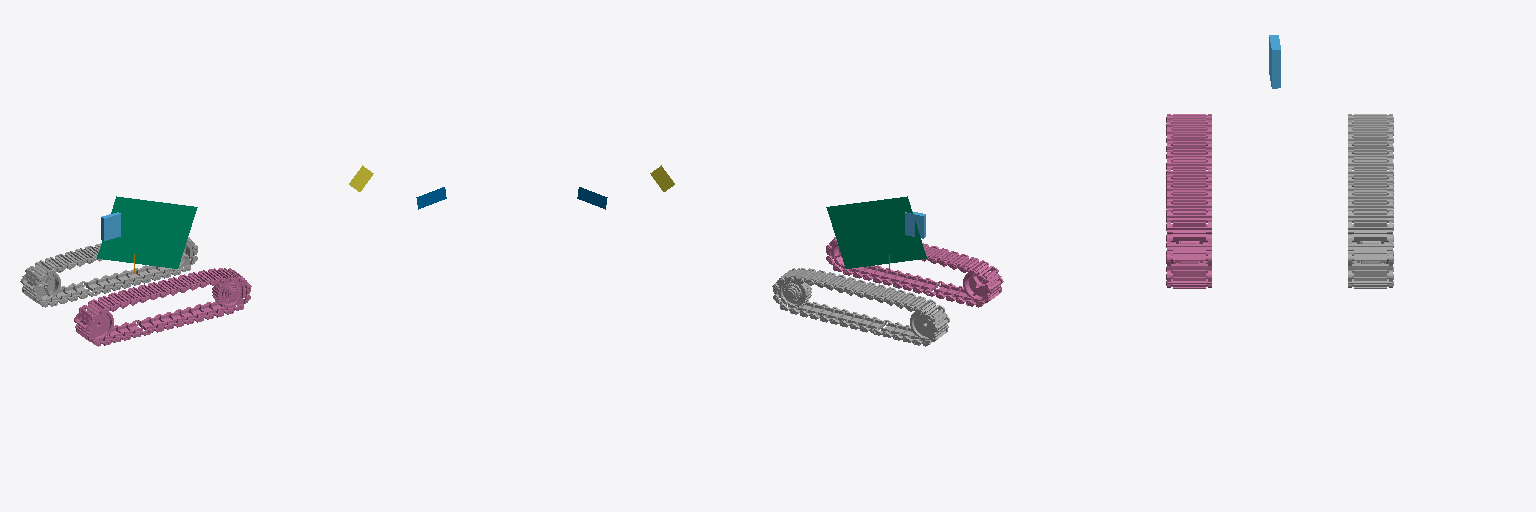
The robot description file, URDF, robot "excavator":
<?xml version="1.0" encoding="UTF-8"?>

<robot name="excavator">
    <link name="base_link">
        <inertial>
            <origin rpy="0 0 0" xyz="0.0282638347815265 -8.1769857299463E-05 -0.657571378556595" />
            <mass value="1992.01573661862" />
            <inertia ixx="4121.92197803139" ixy="-0.36404615948107" ixz="-3.32850437268188" iyy="2819.50995703083" iyz="-0.0231203772726051" izz="6745.18265552285" />
        </inertial>
        <visual>
            <origin rpy="0 0 0" xyz="0 0 0" />
            <geometry>
                <box size="0.0282638347815265 -8.1769857299463E-05 -0.657571378556595"/>
            </geometry>
            <material name="">
            </material>
        </visual>
        <collision>
            <origin rpy="0 0 0" xyz="0 0 0" />
            <geometry>
                <box size="0.0282638347815265 -8.1769857299463E-05 -0.657571378556595"/>
            </geometry>
        </collision>
    </link>
    <link name="link2">
        <inertial>
            <origin rpy="0 0 0" xyz="-0.617651784118772 0.169249387796911 -0.748550996183249" />
            <mass value="14373.8102967852" />
            <inertia ixx="11975.6344139112" ixy="390.612020085221" ixz="1550.02515600428" iyy="27034.8276746952" iyz="-82.0261146504475" izz="36396.6403161857" />
        </inertial>
        <visual>
            <origin rpy="0 0 0" xyz="0 0 0" />
            <geometry>
                <box size="-0.617651784118772 0.169249387796911 -0.748550996183249"/>
            </geometry>
            <material name="">
            </material>
        </visual>
        <collision>
            <origin rpy="0 0 0" xyz="0 0 0" />
            <geometry>
                <box size="-0.617651784118772 0.169249387796911 -0.748550996183249"/>
            </geometry>
        </collision>
    </link>
    <joint name="link2_to_base" type="revolute">
        <origin rpy="0 0 0.075368" xyz="-0.8585 -0.0825 1.466" />
        <parent link="base_link" />
        <child link="link2" />
        <axis xyz="0 0 1" />
        <limit effort="300" lower="-3.1" upper="3.1" velocity="0.1" />
    </joint>
    <link name="link3">
        <inertial>
            <origin rpy="0 0 0" xyz="3.00116090495667 -3.72380088320412E-06 2.0241982703006" />
            <mass value="2653.35957715292" />
            <inertia ixx="1651.19721093052" ixy="0.000317524053015926" ixz="-3087.13996472933" iyy="10753.6589473432" iyz="-0.000575744023876745" izz="9291.99435208684" />
        </inertial>
        <visual>
            <origin rpy="0 0 0" xyz="0 0 0" />
            <geometry>
                <box size="3.00116090495667 -3.72380088320412E-06 2.0241982703006"/>
            </geometry>
            <material name="">
            </material>
        </visual>
        <collision>
            <origin rpy="0 0 0" xyz="0 0 0" />
            <geometry>
                <box size="3.00116090495667 -3.72380088320412E-06 2.0241982703006"/>
            </geometry>
        </collision>
    </link>
    <joint name="link3_to_link2" type="revolute">
        <origin rpy="0 0.34319 -0.075368" xyz="1.306 -0.015884 -0.544" />
        <parent link="link2" />
        <child link="link3" />
        <axis xyz="0 1 0" />
        <limit effort="300" lower="-0.954" upper="1.03" velocity="0.1" />
    </joint>
    <link name="link4">
        <inertial>
            <origin rpy="0 0 0" xyz="0.544768051453249 6.59989999096666E-07 0.709714150843386" />
            <mass value="112.346086234288" />
            <inertia ixx="9.6961589473412" ixy="6.76332956961237E-05" ixz="-1.6370852111715" iyy="99.0428238358286" iyz="-3.53692985180492E-06" izz="96.8920649055134" />
        </inertial>
        <visual>
            <origin rpy="0 0 0" xyz="0 0 0" />
            <geometry>
                <box size="0.544768051453249 6.59989999096666E-07 0.709714150843386"/>
            </geometry>
            <material name="">
            </material>
        </visual>
        <collision>
            <origin rpy="0 0 0" xyz="0 0 0" />
            <geometry>
                <box size="0.544768051453249 6.59989999096666E-07 0.709714150843386"/>
            </geometry>
        </collision>
    </link>
    <joint name="link4_to_link3" type="revolute">
        <origin rpy="0 0.40612 0" xyz="6.9891 0 2.5506" />
        <parent link="link3" />
        <child link="link4" />
        <axis xyz="0 1 0" />
        <limit effort="300" lower="-0.1214" upper="1.51" velocity="0.1" />
    </joint>
    <link name="link5">
        <inertial>
            <origin rpy="0 0 0" xyz="1.00696844949713 5.57025944480927E-07 0.422752180605688" />
            <mass value="641.54889296027" />
            <inertia ixx="483.100076110219" ixy="-0.000314719832638328" ixz="78.538764799151" iyy="450.334839906164" iyz="0.00031994512557404" izz="639.549262647194" />
        </inertial>
        <visual>
            <origin rpy="0 0 0" xyz="0 0 0" />
            <geometry>
                <box size="1.00696844949713 5.57025944480927E-07 0.422752180605688"/>
            </geometry>
            <material name="">
            </material>
        </visual>
        <collision>
            <origin rpy="0 0 0" xyz="0 0 0" />
            <geometry>
                <box size="1.00696844949713 5.57025944480927E-07 0.422752180605688"/>
            </geometry>
        </collision>
    </link>
    <joint name="link5_to_link4" type="revolute">
        <origin rpy="0 -0.88131 0" xyz="2.6047 0 0.78507" />
        <parent link="link4" />
        <child link="link5" />
        <axis xyz="0 1 0" />
        <limit effort="300" lower="-0.32" upper="3.14" velocity="0.1" />
    </joint>
    <link name="Link_EE">
        <inertial>
            <origin rpy="0 0 0" xyz="0 0 0"/>
            <mass value="0"/>
            <inertia ixx="0" ixy="0" ixz="0" iyy="0" iyz="0" izz="0"/>
        </inertial>
        <visual>
            <origin rpy="0 0 0" xyz="0 0 0"/>
            <geometry>
                <sphere radius="0.0001"/>
            </geometry>
        </visual>
    </link>
    <joint name="Joint_EE" type="fixed">
        <parent link="link5"/>
        <child link="Link_EE"/>
        <origin rpy="0 0 0" xyz="2 0 -0.75"/>
        <axis xyz="1 0 0"/>
    </joint>
    <link name="kanan">
        <inertial>
            <origin rpy="0 0 0" xyz="0.137802794828529 -1.60969837001418 -0.780803192513706" />
            <mass value="1072.99833902132" />
            <inertia ixx="71.1894056522031" ixy="0.000478538948057985" ixz="-0.189960171730512" iyy="52.4909931528737" iyz="-0.000145153465020884" izz="77.9740576244029" />
        </inertial>
        <visual>
            <origin rpy="0 0 0" xyz="0 0 0" />
            <geometry>
                <mesh filename="package://aba_excavator/meshes/kanan.STL" />
            </geometry>
            <material name="">
            </material>
        </visual>
        <collision>
            <origin rpy="0 0 0" xyz="0 0 0" />
            <geometry>
                <mesh filename="package://aba_excavator/meshes/kanan.STL" />
            </geometry>
        </collision>
    </link>
    <joint name="base_to_kanan" type="continuous">
        <origin rpy="0 0 0" xyz="0 0 0" />
        <parent link="base_link" />
        <child link="kanan" />
        <axis xyz="0 1 0" />
    </joint>
    <link name="kiri">
        <inertial>
            <origin rpy="0 0 0" xyz="0.137814813610945 1.60969827060124 -0.780803192538422" />
            <mass value="1072.99833917086" />
            <inertia ixx="71.189405656692" ixy="0.000478540128493601" ixz="-0.187223600988064" iyy="52.4909931656603" iyz="0.000143564448394321" izz="77.9740576330073" />
        </inertial>
        <visual>
            <origin rpy="0 0 0" xyz="0 0 0" />
            <geometry>
                <mesh filename="package://aba_excavator/meshes/kiri.STL" />
            </geometry>
            <material name="">
            </material>
        </visual>
        <collision>
            <origin rpy="0 0 0" xyz="0 0 0" />
            <geometry>
                <mesh filename="package://aba_excavator/meshes/kiri.STL" />
            </geometry>
        </collision>
    </link>
    <joint name="base_to_kiri" type="continuous">
        <origin rpy="0 0 0" xyz="0 0 0" />
        <parent link="base_link" />
        <child link="kiri" />
        <axis xyz="0 1 0" />
    </joint>
    <link name="base">
    <inertial>
            <origin rpy="0 0 0" xyz="0 0 0" />
            <mass value="0" />
            <inertia ixx="0" ixy="0" ixz="0" iyy="0" iyz="0" izz="0" />
        </inertial>
    </link>
    <joint name="base_to_base" type="fixed">
        <origin rpy="0 0 0" xyz="0 0 0" />
        <parent link="base" />
        <child link="base_link" />
        <axis xyz="0 0 1" />
    </joint>
    <gazebo>
        <plugin filename="libgazebo_ros_control.so" name="gazebo_ros_control">
            <!-- <robotNamespace>/</robotNamespace> -->
            <robotSimType>gazebo_ros_control/DefaultRobotHWSim</robotSimType>
        </plugin>
    </gazebo>
    <transmission name="trans_link2_to_base">
        <type>transmission_interface/SimpleTransmission</type>
        <joint name="link2_to_base">
            <hardwareInterface>hardware_interface/PositionJointInterface</hardwareInterface>
        </joint>
        <actuator name="link2_to_base_motor">
            <hardwareInterface>hardware_interface/PositionJointInterface</hardwareInterface>
            <mechanicalReduction>1</mechanicalReduction>
        </actuator>
    </transmission>
    <transmission name="trans_link3_to_link2">
        <type>transmission_interface/SimpleTransmission</type>
        <joint name="link3_to_link2">
            <hardwareInterface>hardware_interface/PositionJointInterface</hardwareInterface>
        </joint>
        <actuator name="link3_to_link2_motor">
            <hardwareInterface>hardware_interface/PositionJointInterface</hardwareInterface>
            <mechanicalReduction>1</mechanicalReduction>
        </actuator>
    </transmission>
    <transmission name="trans_link4_to_link3">
        <type>transmission_interface/SimpleTransmission</type>
        <joint name="link4_to_link3">
            <hardwareInterface>hardware_interface/PositionJointInterface</hardwareInterface>
        </joint>
        <actuator name="link4_to_link3_motor">
            <hardwareInterface>hardware_interface/PositionJointInterface</hardwareInterface>
            <mechanicalReduction>1</mechanicalReduction>
        </actuator>
    </transmission>
    <transmission name="trans_link5_to_link4">
        <type>transmission_interface/SimpleTransmission</type>
        <joint name="link5_to_link4">
            <hardwareInterface>hardware_interface/PositionJointInterface</hardwareInterface>
        </joint>
        <actuator name="link5_to_link4_motor">
            <hardwareInterface>hardware_interface/PositionJointInterface</hardwareInterface>
            <mechanicalReduction>1</mechanicalReduction>
        </actuator>
    </transmission>
    <gazebo reference="base_link">
        <material>Gazebo/Grey</material>
        <mu1>0.2</mu1>
        <mu2>0.2</mu2>
    </gazebo>
    <gazebo reference="link2">
        <material>Gazebo/Grey</material>
        <mu1>0.2</mu1>
        <mu2>0.2</mu2>
    </gazebo>
    <gazebo reference="link3">
        <material>Gazebo/Grey</material>
        <mu1>0.2</mu1>
        <mu2>0.2</mu2>
    </gazebo>
    <gazebo reference="link4">
        <material>Gazebo/Grey</material>
        <mu1>0.2</mu1>
        <mu2>0.2</mu2>
    </gazebo>
    <gazebo reference="link5">
        <material>Gazebo/Grey</material>
        <mu1>0.2</mu1>
        <mu2>0.2</mu2>
    </gazebo>
</robot>

--- What the picture shows (computed from the rendered views, not written in the file) ---
Views: 3 orthographic renders of the robot side by side, from view 1: azimuth 30°, elevation 25°; view 2: azimuth 150°, elevation 25°; view 3: azimuth 270°, elevation 25°.
Model excavator with 9 links and 8 joints (4 revolute, 2 continuous, 2 fixed), rooted at base, posed every joint at zero.
Links seen in each view (by area): view 1: kanan, link3, kiri; view 2: kiri, link3, kanan; view 3: kanan, kiri, link2.
Link boxes in pixels (bbox=[...]): kanan: bbox=[74, 268, 251, 346]; link3: bbox=[97, 196, 197, 268]; kiri: bbox=[20, 237, 197, 307]; kiri: bbox=[772, 268, 949, 346]; link3: bbox=[826, 196, 926, 268]; kanan: bbox=[826, 237, 1003, 307]; kanan: bbox=[1166, 114, 1211, 288]; kiri: bbox=[1348, 114, 1393, 288]; link2: bbox=[1269, 35, 1280, 88].
Bounding box of the posed robot: 15.22 × 4.01 × 3.8 m (x, y, z).
Meshes: 2 distinct files referenced, 2 mesh visuals loaded (2 binary STL).